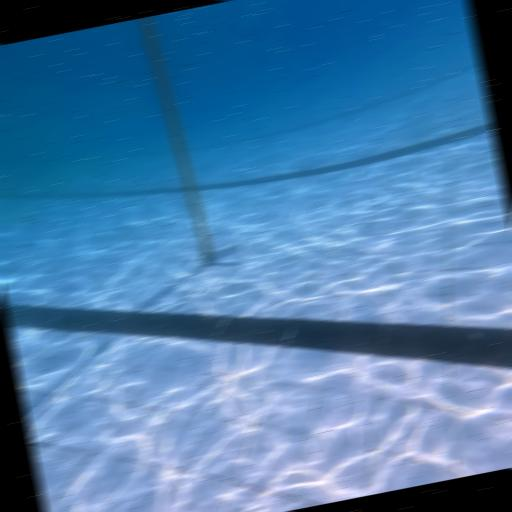pole_gate: (137, 13, 214, 265)
